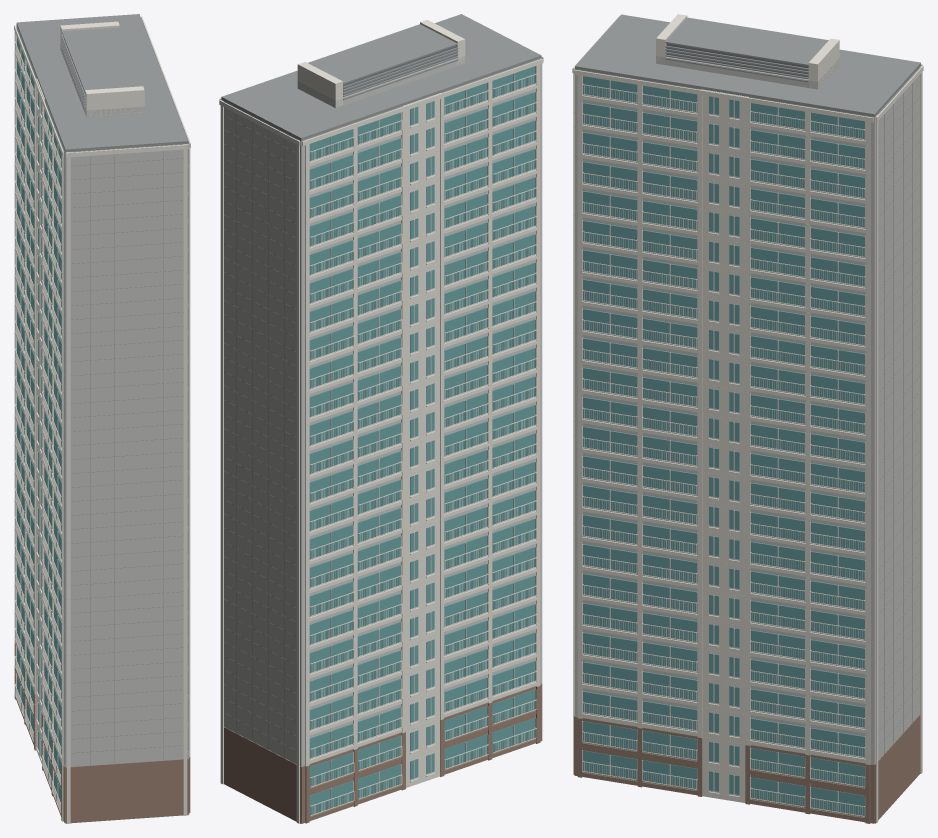
File: bespoke-jamsil-els-141.glb
The picture shows the model from 3 angles, left to right: view 1: azimuth 30°, elevation 25°; view 2: azimuth 150°, elevation 25°; view 3: azimuth 270°, elevation 25°; orthographic projection. The views are drawn at different scales.
Visible parts, largest first — view 1: Els141_editable_Els141_light_grey_solid_wall, Els141_editable_Els141_modest_grey_flat_roof_caps, Els141_white_exact_chunk_1, Els141_white_exact_chunk_0, Els141_editable_Els141_turquoise_balcony_glazing, Els141_editable_Els141_muted_ground_wall, Els141_white_exact_chunk_3, Els141_white_exact_chunk_2; view 2: Els141_editable_Els141_turquoise_balcony_glazing, Els141_editable_Els141_light_grey_solid_wall, Els141_white_exact_chunk_0, Els141_white_exact_chunk_1, Els141_editable_Els141_modest_grey_flat_roof_caps, Els141_editable_Els141_muted_ground_wall, Els141_white_exact_chunk_3, Els141_editable_Els141_narrow_charcoal_service_strips; view 3: Els141_editable_Els141_turquoise_balcony_glazing, Els141_editable_Els141_light_grey_solid_wall, Els141_white_exact_chunk_2, Els141_white_exact_chunk_1, Els141_white_exact_chunk_3, Els141_editable_Els141_modest_grey_flat_roof_caps, Els141_editable_Els141_muted_ground_wall, Els141_white_exact_chunk_0, Els141_editable_Els141_narrow_charcoal_service_strips.
Part boxes in pixels (x1,y1,x2,y2): Els141_editable_Els141_light_grey_solid_wall: [16, 25, 188, 767]; Els141_editable_Els141_modest_grey_flat_roof_caps: [16, 14, 188, 767]; Els141_white_exact_chunk_1: [14, 25, 188, 823]; Els141_white_exact_chunk_0: [14, 24, 51, 787]; Els141_editable_Els141_turquoise_balcony_glazing: [17, 31, 63, 808]; Els141_editable_Els141_muted_ground_wall: [14, 642, 190, 823]; Els141_white_exact_chunk_3: [60, 16, 190, 147]; Els141_white_exact_chunk_2: [169, 89, 190, 758]; Els141_editable_Els141_turquoise_balcony_glazing: [309, 66, 535, 814]; Els141_editable_Els141_light_grey_solid_wall: [221, 56, 541, 766]; Els141_white_exact_chunk_0: [219, 93, 488, 823]; Els141_white_exact_chunk_1: [302, 56, 543, 776]; Els141_editable_Els141_modest_grey_flat_roof_caps: [221, 14, 541, 763]; Els141_editable_Els141_muted_ground_wall: [224, 683, 542, 823]; Els141_white_exact_chunk_3: [219, 19, 465, 106]; Els141_editable_Els141_narrow_charcoal_service_strips: [343, 45, 456, 95]; Els141_editable_Els141_turquoise_balcony_glazing: [583, 76, 865, 815]; Els141_editable_Els141_light_grey_solid_wall: [575, 56, 920, 773]; Els141_white_exact_chunk_2: [577, 70, 865, 816]; Els141_white_exact_chunk_1: [572, 17, 922, 802]; Els141_white_exact_chunk_3: [573, 14, 873, 813]; Els141_editable_Els141_modest_grey_flat_roof_caps: [574, 14, 920, 759]; Els141_editable_Els141_muted_ground_wall: [574, 714, 920, 823]; Els141_white_exact_chunk_0: [876, 65, 923, 822]; Els141_editable_Els141_narrow_charcoal_service_strips: [666, 43, 808, 77].
Size of the model in its own units: 19.55 by 65.55 by 28.45.
